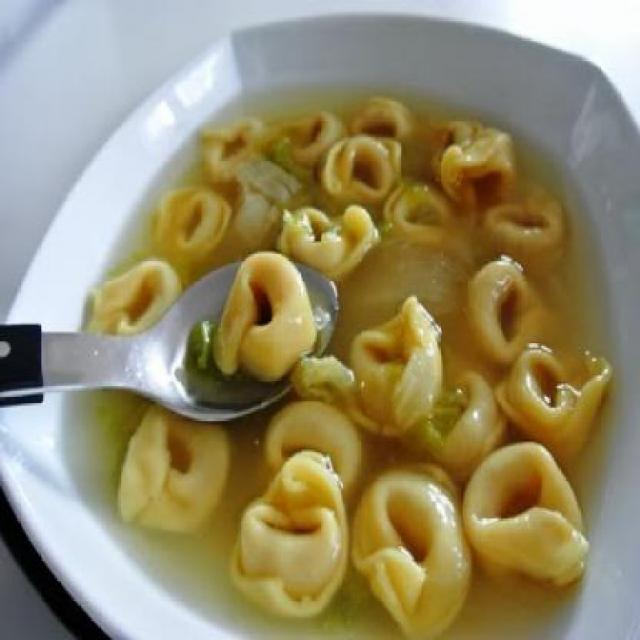Tortellini in broth: (232, 146, 598, 620)
